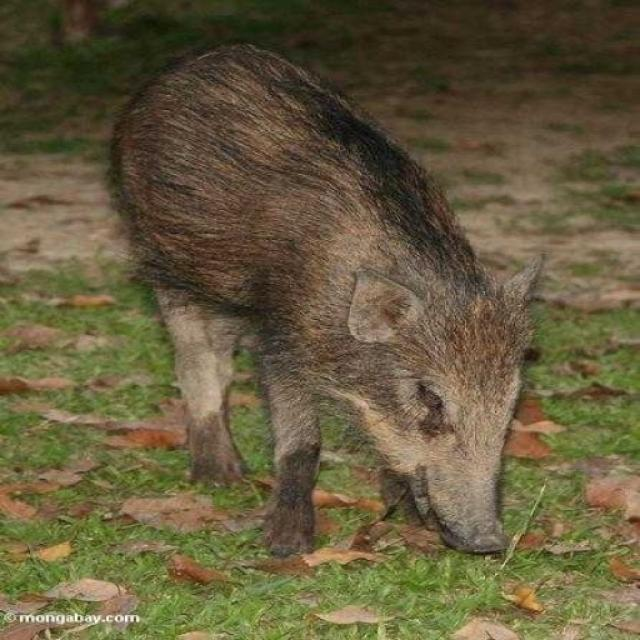pig: (141, 72, 545, 576)
